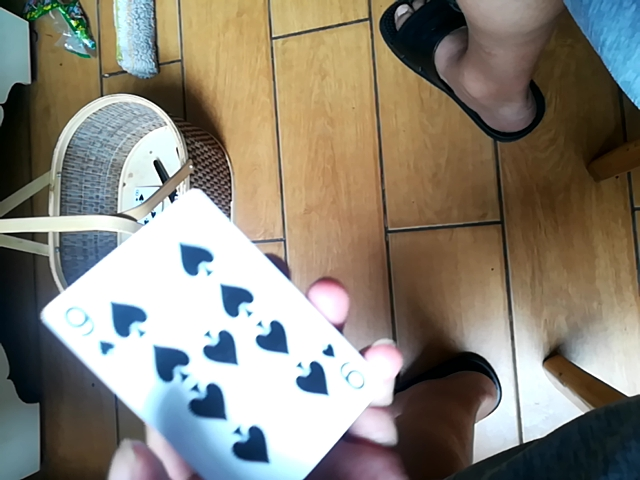ht 9: (48, 176, 409, 476)
